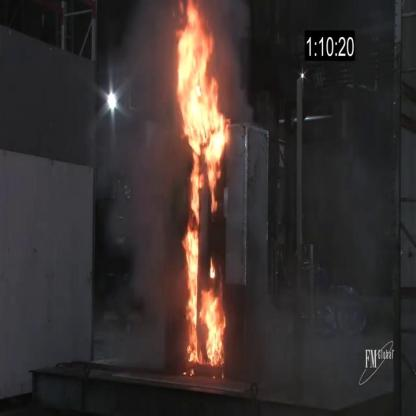fire: (170, 11, 233, 384)
